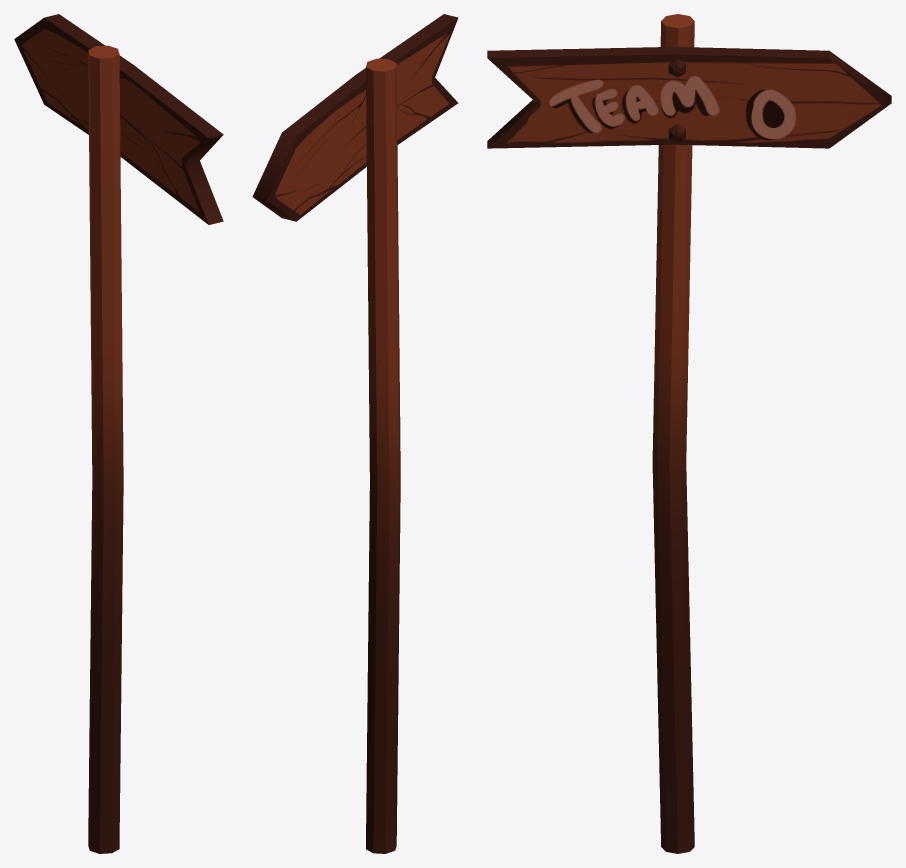
File: SignPost_Asset.fbx
3 views of the same model, side by side, from view 1: azimuth 30°, elevation 25°; view 2: azimuth 150°, elevation 25°; view 3: azimuth 270°, elevation 25° (orthographic). The views are drawn at different scales.
Parts seen in each view (by area): view 1: pCylinder2; view 2: pCylinder2; view 3: pCylinder2.
Part boxes in pixels (x1,y1,x2,y2): pCylinder2: (14, 14, 223, 853); pCylinder2: (252, 14, 458, 853); pCylinder2: (487, 14, 891, 853).
Bounding box in the file's own units: 0.0093 × 0.1427 × 0.0633.
